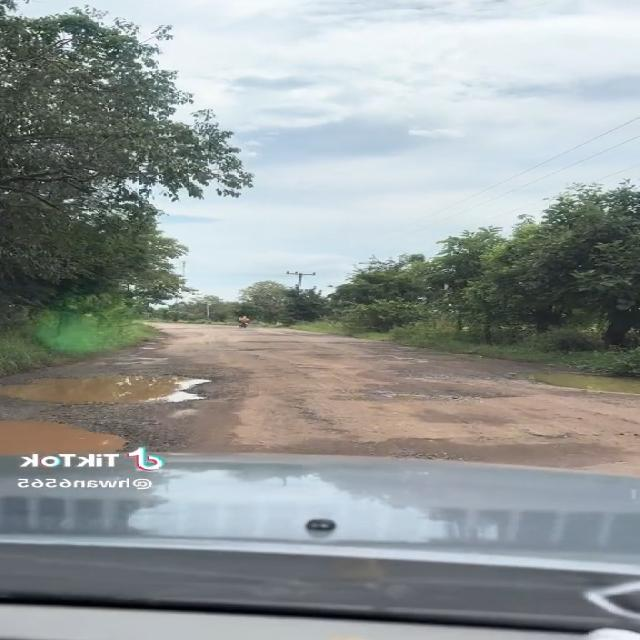Poth-hole: (245, 390, 392, 440)
